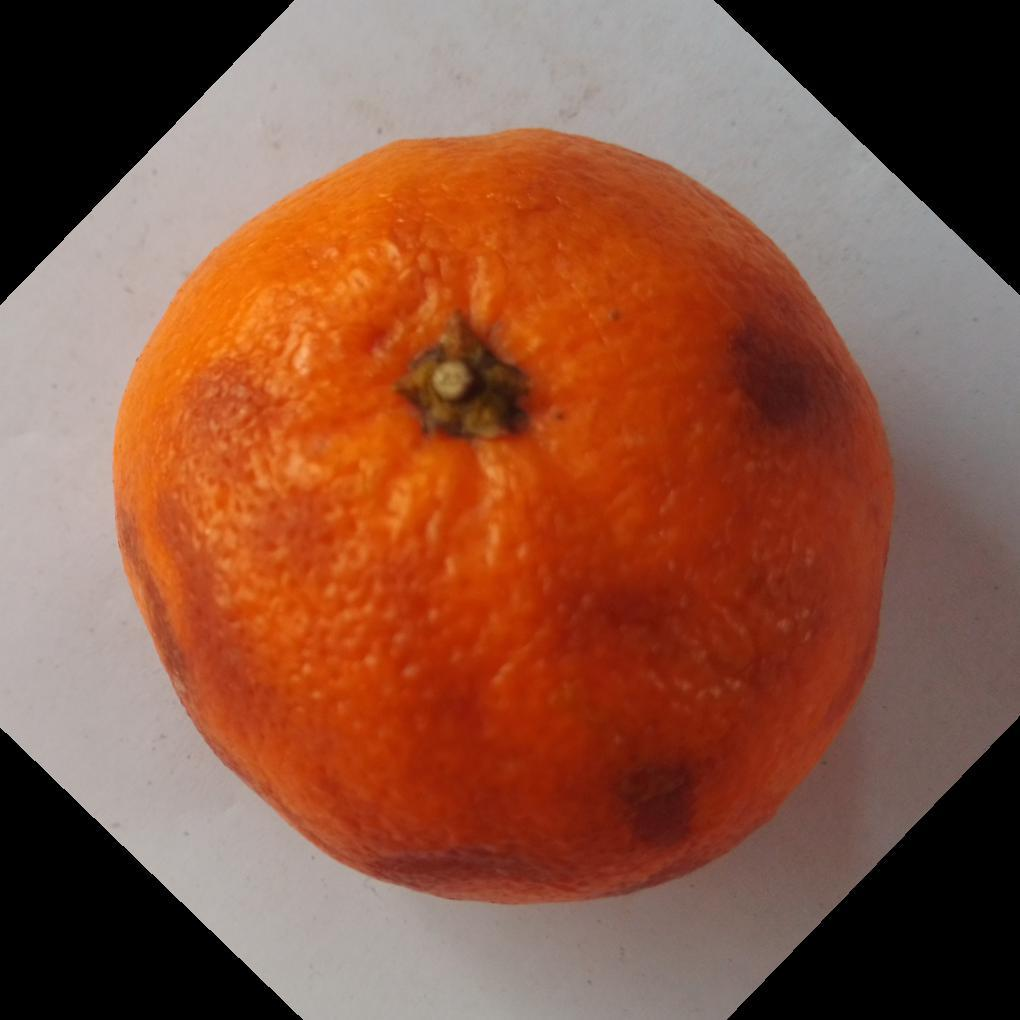FreshOrange: (109, 128, 897, 910)
